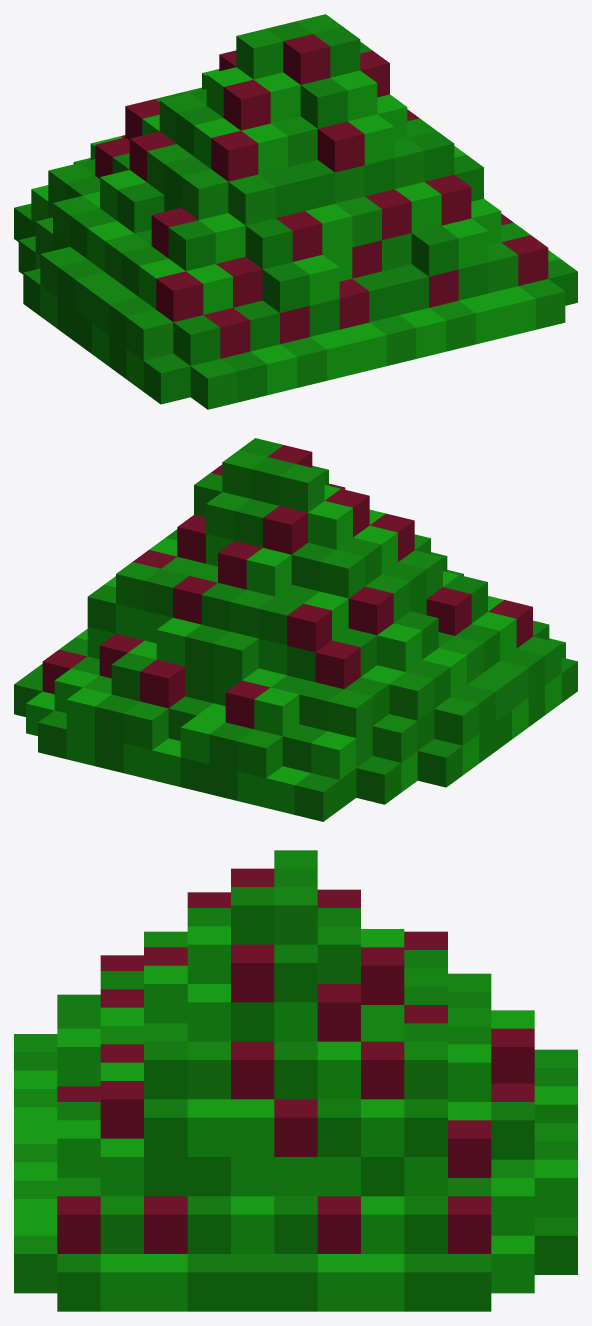
File: Plants-5.obj
The picture shows the model from 3 angles, top to bottom: view 1: azimuth 30°, elevation 25°; view 2: azimuth 150°, elevation 25°; view 3: azimuth 270°, elevation 25°; orthographic projection. The views are drawn at different scales.
Bounding box in the file's own units: 1.4 × 0.8 × 1.3.
1 material, 1 textured.
